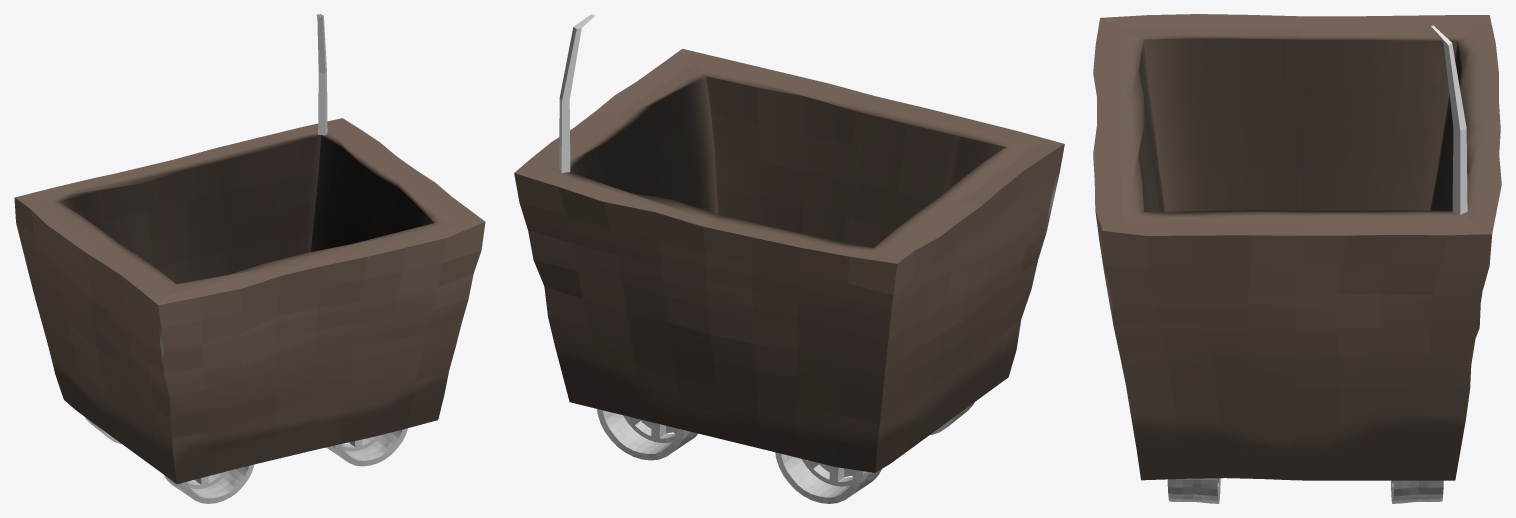
File: wagonik_with_place_for_lamp.fbx
3 renders of one model, left to right at view 1: azimuth 30°, elevation 25°; view 2: azimuth 150°, elevation 25°; view 3: azimuth 270°, elevation 25°, orthographic. The views are drawn at different scales.
Visible parts, largest first — view 1: Cube_original, Cylinder.004, Cylinder.003, Cube; view 2: Cube_original, Cylinder.002, Cylinder.001, Cube; view 3: Cube_original, Cube, Cylinder.003, Cylinder.001.
Part boxes in pixels (x1,y1,x2,y2): Cube_original: [14, 118, 485, 484]; Cylinder.004: [164, 464, 254, 503]; Cylinder.003: [326, 428, 407, 466]; Cube: [316, 14, 327, 135]; Cube_original: [514, 49, 1064, 472]; Cylinder.002: [775, 452, 881, 503]; Cylinder.001: [597, 409, 697, 460]; Cube: [559, 14, 594, 172]; Cube_original: [1093, 14, 1501, 480]; Cube: [1431, 25, 1467, 214]; Cylinder.003: [1167, 478, 1220, 503]; Cylinder.001: [1391, 480, 1443, 503].
Size of the model in its own units: 191 by 203 by 150.
